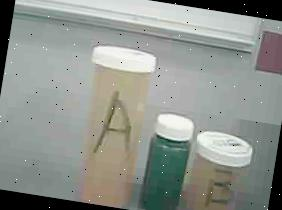Bottle A: (63, 37, 159, 210)
Bottle B: (183, 127, 254, 210)
Bottle C: (135, 108, 199, 210)
